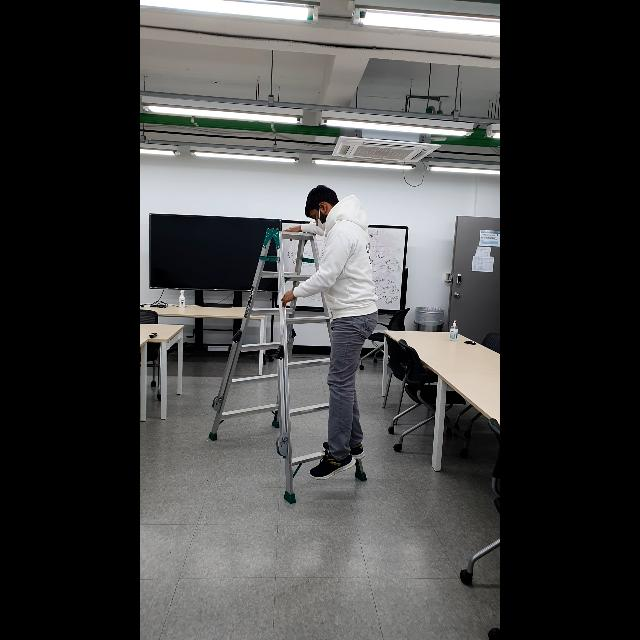hard hat: (208, 225, 372, 510)
vest: (292, 182, 378, 486)
